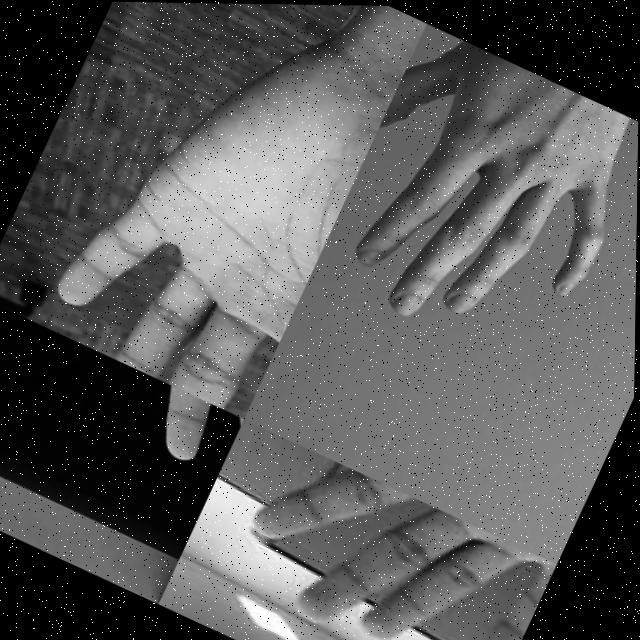hand: (26, 0, 403, 421), (310, 21, 640, 379), (229, 441, 560, 640), (0, 310, 246, 485)
